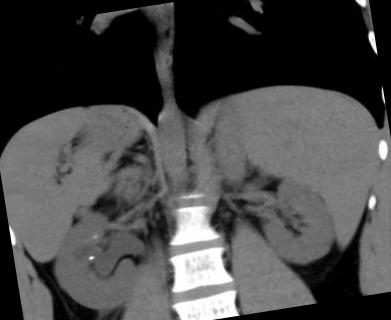Tas_Var: (84, 252, 98, 262), (89, 233, 100, 242)
